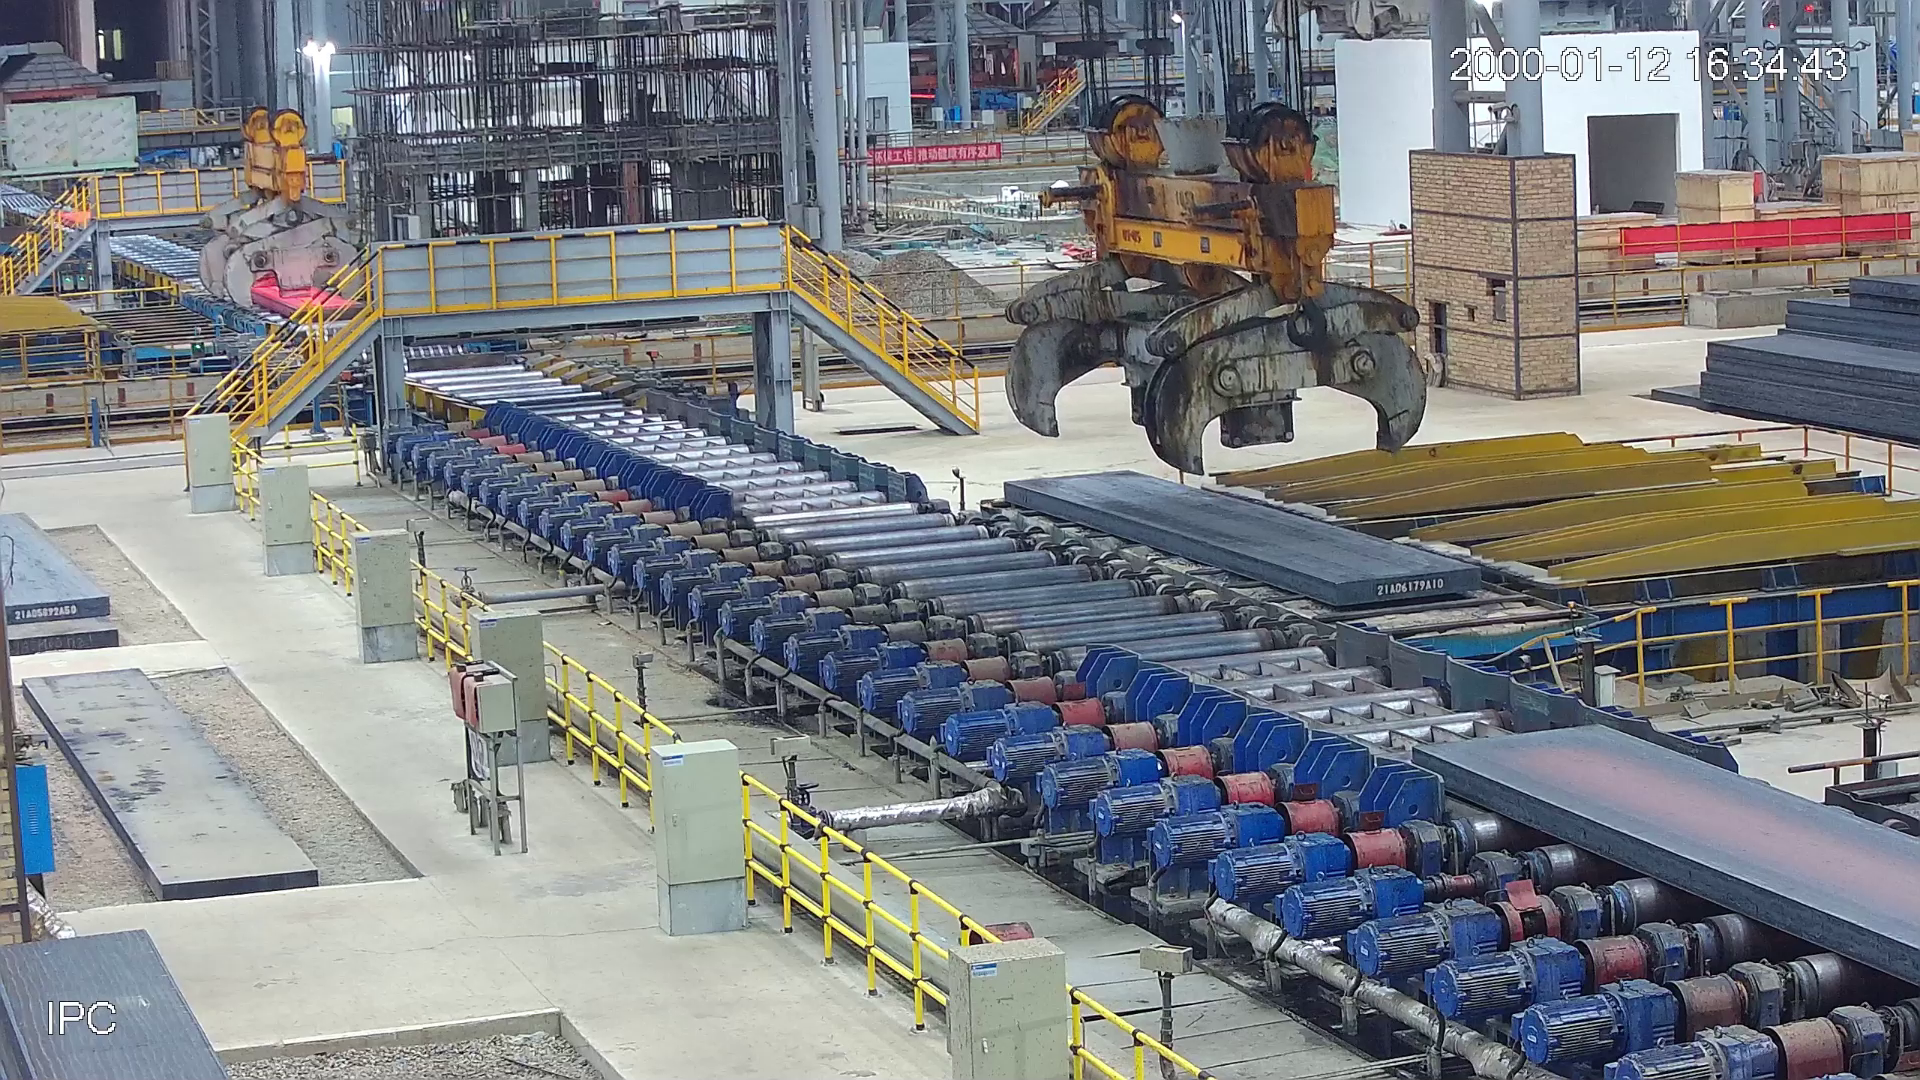crane: (1000, 86, 1425, 473)
craneandslab: (196, 103, 369, 319)
slab: (1408, 720, 1920, 988), (1004, 471, 1474, 609)
